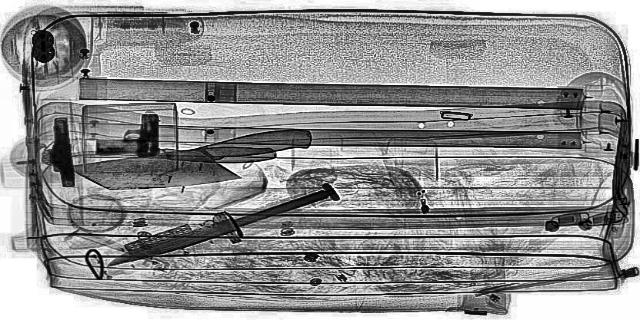Gun: (94, 114, 160, 156), (46, 118, 76, 186)
Knife: (62, 126, 334, 200), (100, 188, 334, 270), (70, 146, 276, 162)
